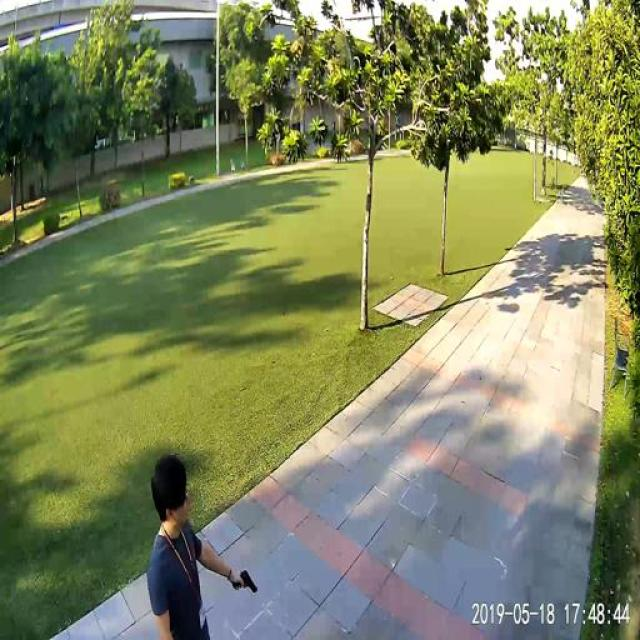senjata_api: (231, 570, 261, 593)
